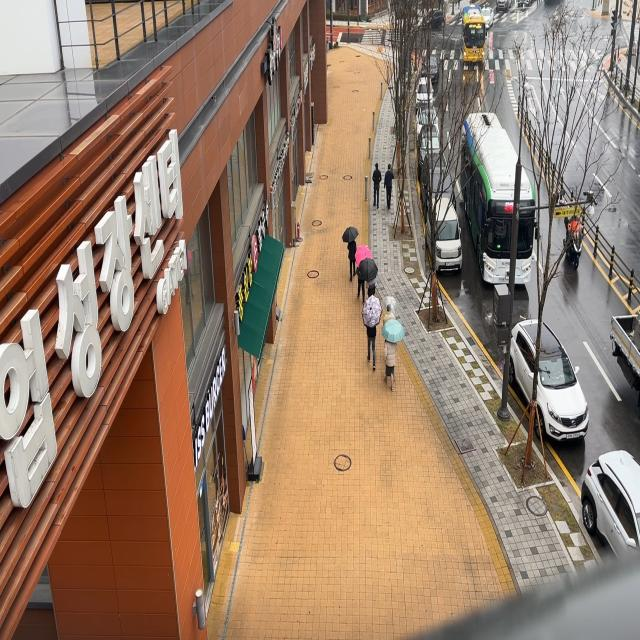Car: (459, 109, 543, 297), (503, 316, 593, 454), (574, 445, 640, 564), (419, 200, 467, 286), (410, 150, 461, 208), (416, 124, 444, 163), (408, 103, 441, 135), (409, 69, 435, 108), (422, 7, 450, 37), (419, 46, 443, 79), (481, 0, 497, 31), (496, 0, 513, 13)
Motorcycle: (557, 200, 584, 269)
Truck: (605, 291, 640, 409)
